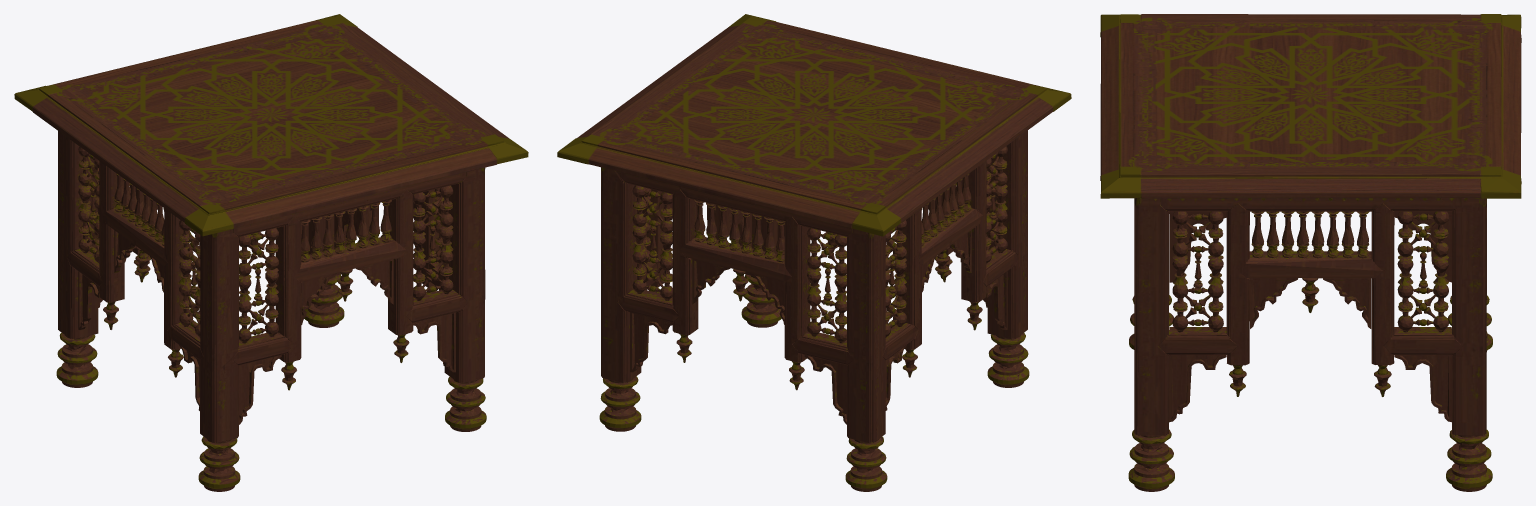
Rendered from table2.fbx.
3 views of the same model, side by side, from view 1: azimuth 30°, elevation 25°; view 2: azimuth 150°, elevation 25°; view 3: azimuth 270°, elevation 25° (orthographic). The views are drawn at different scales.
Parts seen in each view (by area): view 1: Egy1; view 2: Egy1; view 3: Egy1.
Part boxes in pixels (x1,y1,x2,y2): Egy1: (14,14,528,491); Egy1: (557,14,1071,491); Egy1: (1100,14,1521,491).
Bounding box in the file's own units: 23.67 × 20.05 × 23.68.
